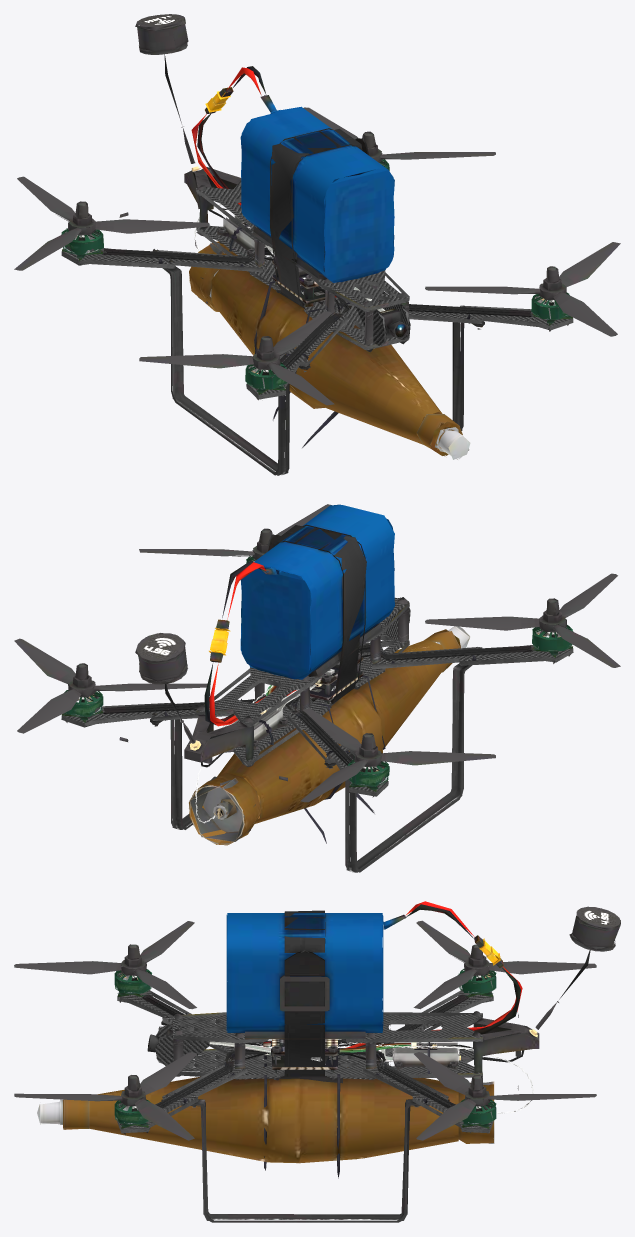
The model's file is fpv_drone.glb.
3 views of the same model, one above another, from view 1: azimuth 30°, elevation 25°; view 2: azimuth 150°, elevation 25°; view 3: azimuth 270°, elevation 25° (orthographic). The views are drawn at different scales.
Visible parts, largest first — view 1: Object_4, Object_5, Object_6, Object_7; view 2: Object_4, Object_5, Object_6, Object_7, Object_3; view 3: Object_4, Object_6, Object_5, Object_7, Object_3.
Boxes of the visible parts, x1,y1,x2,y2 form: Object_4: [189, 66, 470, 459]; Object_5: [14, 176, 484, 475]; Object_6: [119, 14, 620, 336]; Object_7: [61, 247, 573, 400]; Object_4: [189, 504, 469, 845]; Object_5: [150, 573, 620, 872]; Object_6: [14, 504, 331, 781]; Object_7: [61, 644, 573, 797]; Object_3: [62, 560, 572, 791]; Object_4: [37, 901, 532, 1178]; Object_6: [14, 906, 620, 1140]; Object_5: [14, 920, 596, 1222]; Object_7: [117, 987, 493, 1134]; Object_3: [117, 972, 492, 1128].
Bounding box in the file's own units: 0.4805 × 0.295 × 0.56.
Materials: 3 (2 with a texture image).
